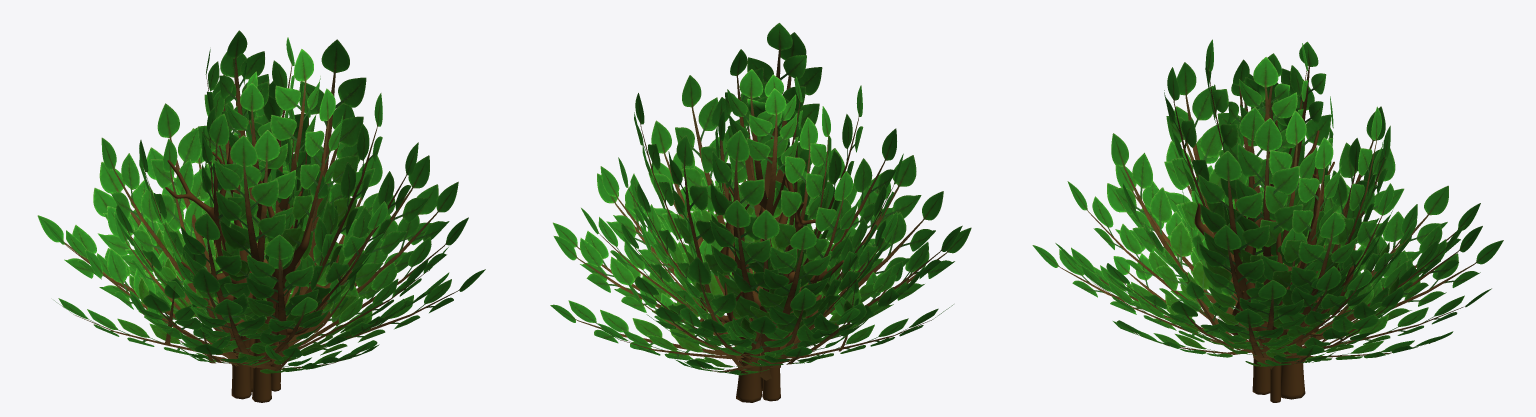
The model's file is simple_bush.gltf.
3 renders of one model, left to right at view 1: azimuth 30°, elevation 25°; view 2: azimuth 150°, elevation 25°; view 3: azimuth 270°, elevation 25°, orthographic. The views are drawn at different scales.
Parts seen in each view (by area): view 1: Branches, Trunk; view 2: Branches, Trunk; view 3: Branches, Trunk.
Boxes of the visible parts, x1,y1,x2,y2 form: Branches: [37, 30, 485, 373]; Trunk: [165, 130, 339, 402]; Branches: [550, 23, 971, 380]; Trunk: [699, 150, 843, 402]; Branches: [1032, 39, 1503, 369]; Trunk: [1194, 120, 1355, 402].
Size of the model in its own units: 1.47 by 1.22 by 1.5.
2 materials, 1 textured.
